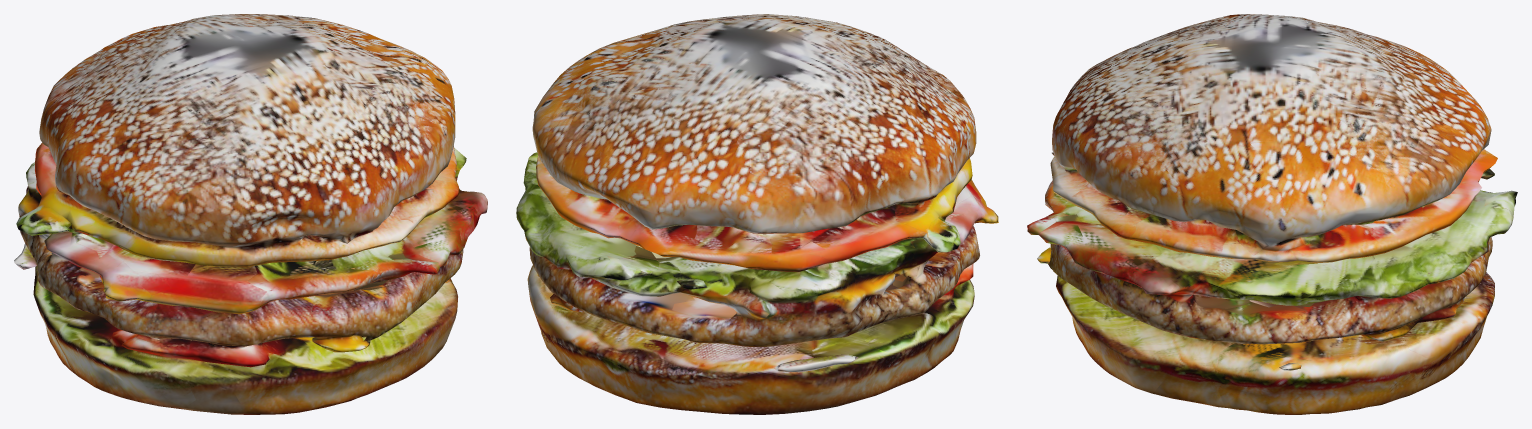
The model's file is uploads_files_4807090_model.glb.
3 renders of one model, left to right at view 1: azimuth 30°, elevation 25°; view 2: azimuth 150°, elevation 25°; view 3: azimuth 270°, elevation 25°, orthographic.
Bounding box in the file's own units: 1 × 0.6295 × 0.9879.
1 material, 1 textured.
